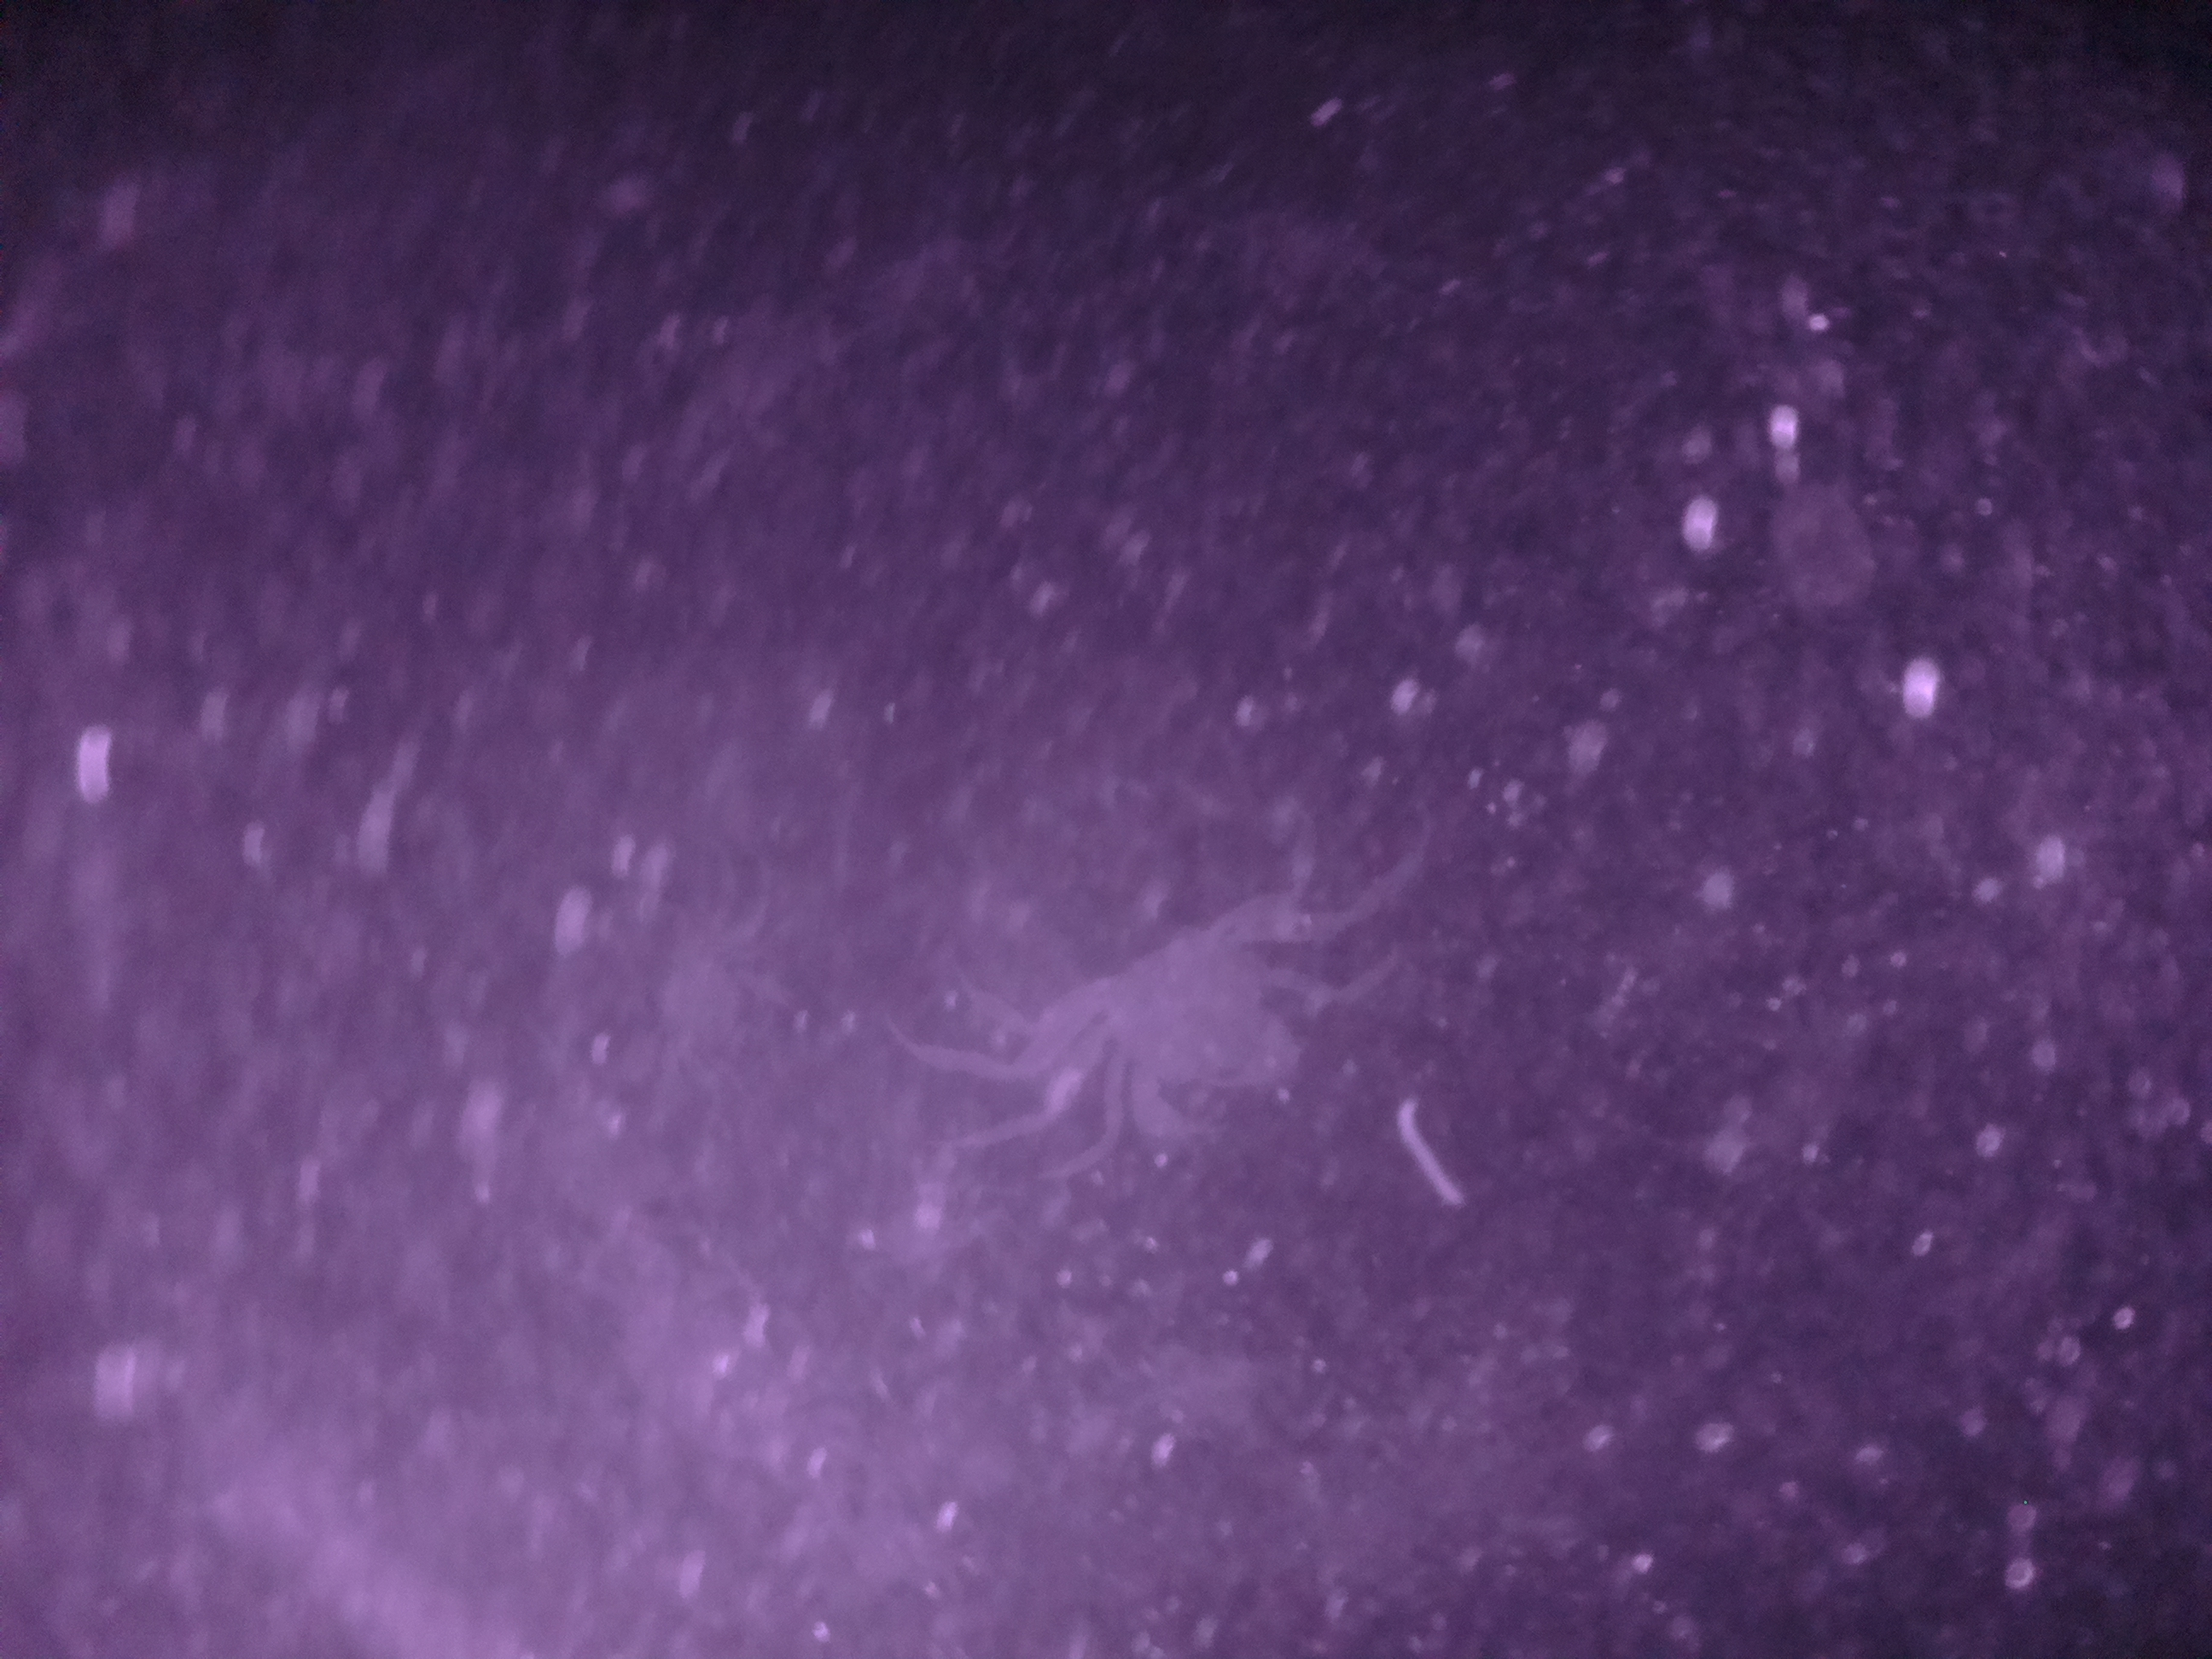Crab: (1014, 892, 1374, 1175)
